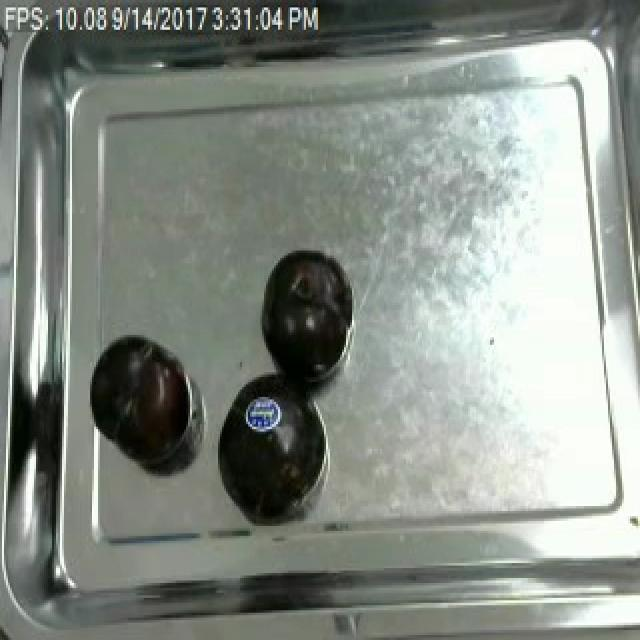Fruit: (212, 360, 334, 521), (86, 332, 200, 469), (254, 246, 352, 384)
